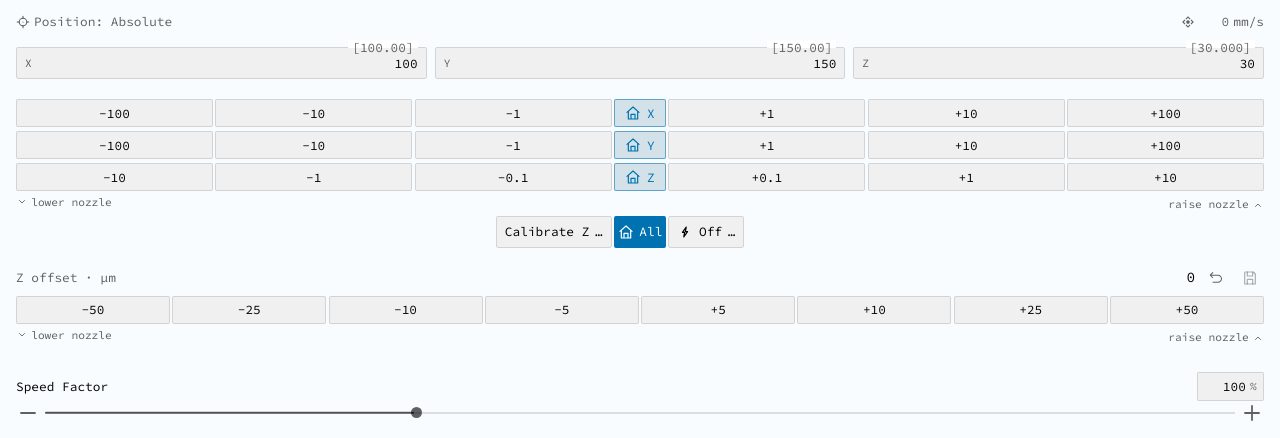
Test case: MovementModule › restores the commanded target when an axis field is left, sending nothing
Replace the text in the number field labelled "[100.00] X" with "205.5": (227, 63) [37, 54, 418, 73]
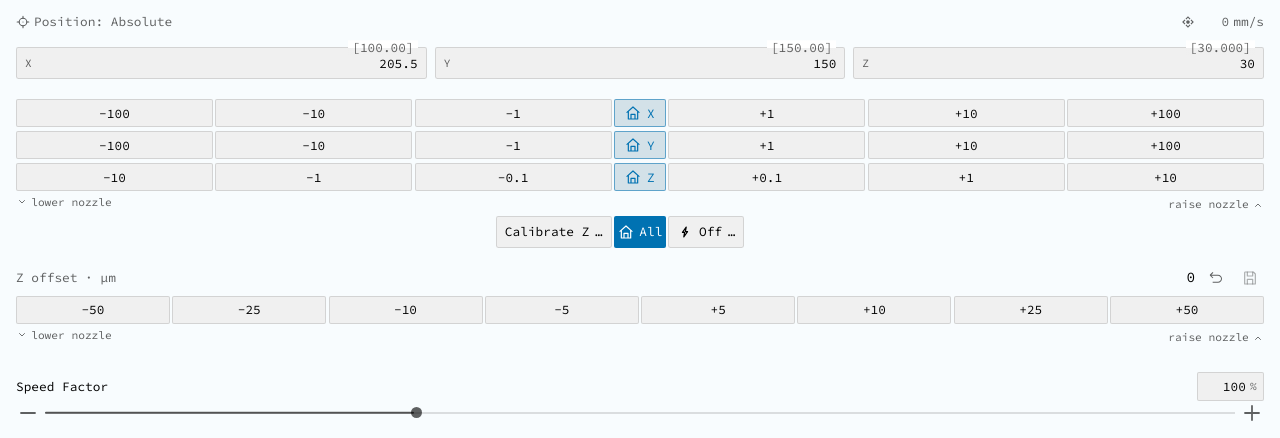
Leave the number field labelled "[100.00] X", box [37, 54, 418, 73]
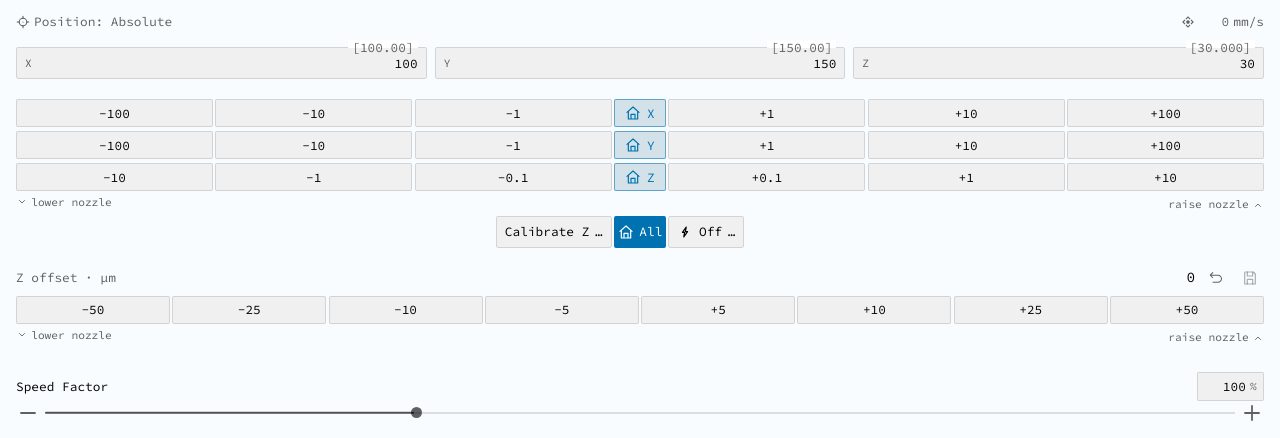
expect the number field labelled "[100.00] X" holds "100": met, box [37, 54, 418, 73]
